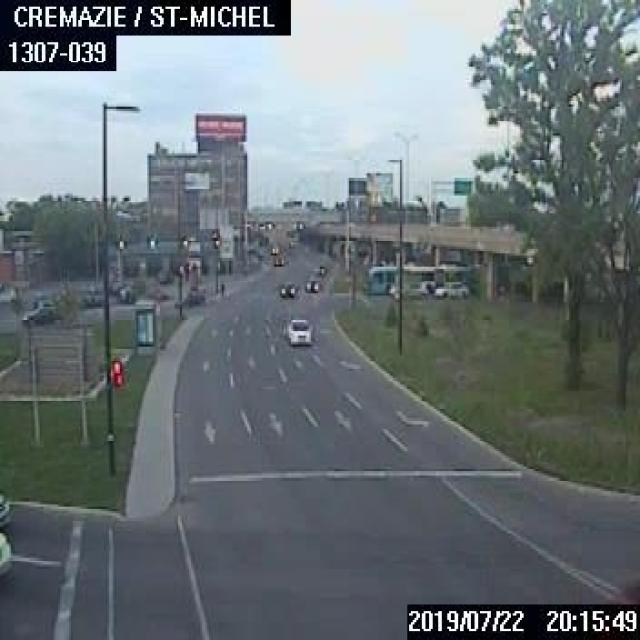bus: (362, 262, 469, 296)
pedestrian: (218, 280, 224, 296)
vehicle: (20, 298, 58, 324), (387, 280, 427, 300), (285, 314, 311, 344), (0, 529, 13, 575), (432, 280, 468, 296), (274, 280, 296, 298), (0, 492, 11, 528), (302, 273, 320, 291), (313, 263, 325, 275), (273, 254, 283, 265), (269, 244, 277, 254), (398, 262, 400, 264)
